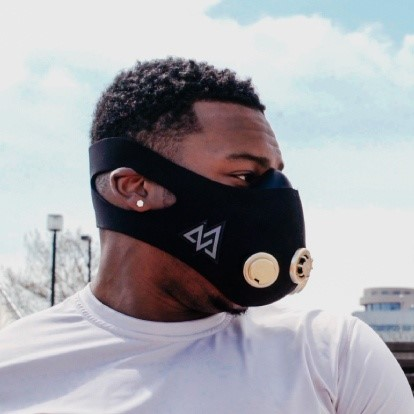face_with_mask: (84, 55, 312, 311)
